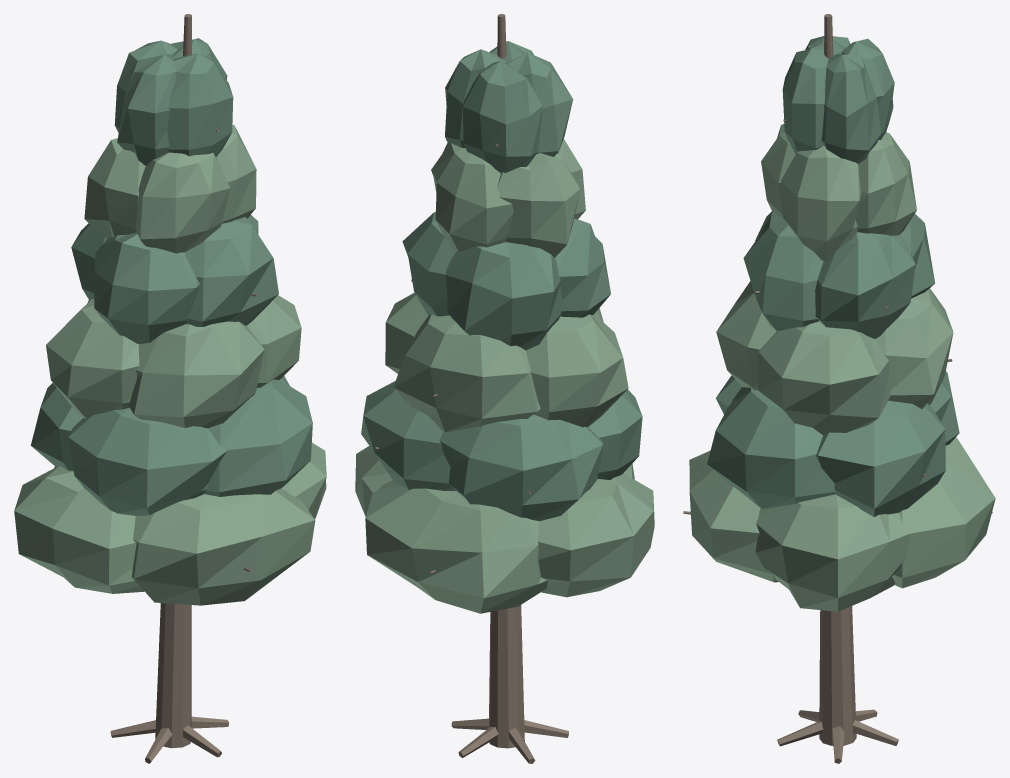
The picture shows the model from 3 angles, left to right: view 1: azimuth 30°, elevation 25°; view 2: azimuth 150°, elevation 25°; view 3: azimuth 270°, elevation 25°; orthographic projection.
Size of the model in its own units: 8.81 by 20.61 by 8.02.
